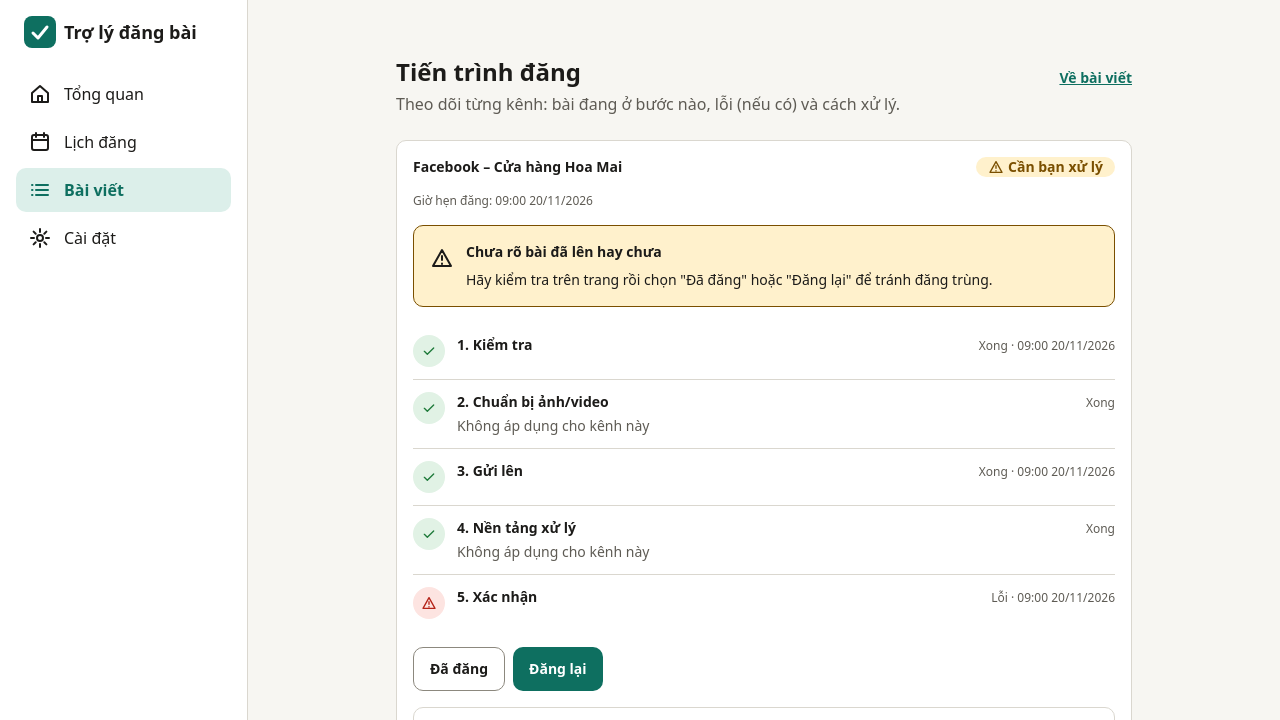
it: Tiến trình đăng › "Cần kiểm tra": có "Đã đăng" + "Đăng lại"; Đăng lại hỏi xác nhận kèm cảnh báo đăng trùng rồi gửi phiên bản
Later steps or results of the test are not shown.
Expected: the text "Chưa rõ bài đã lên hay chưa" is shown, [466,242,662,261]
Expected: the button "Đã đăng" is shown, [413,647,505,691]
Click the button "Đăng lại".
click(558, 669)  # box [513,647,603,691]
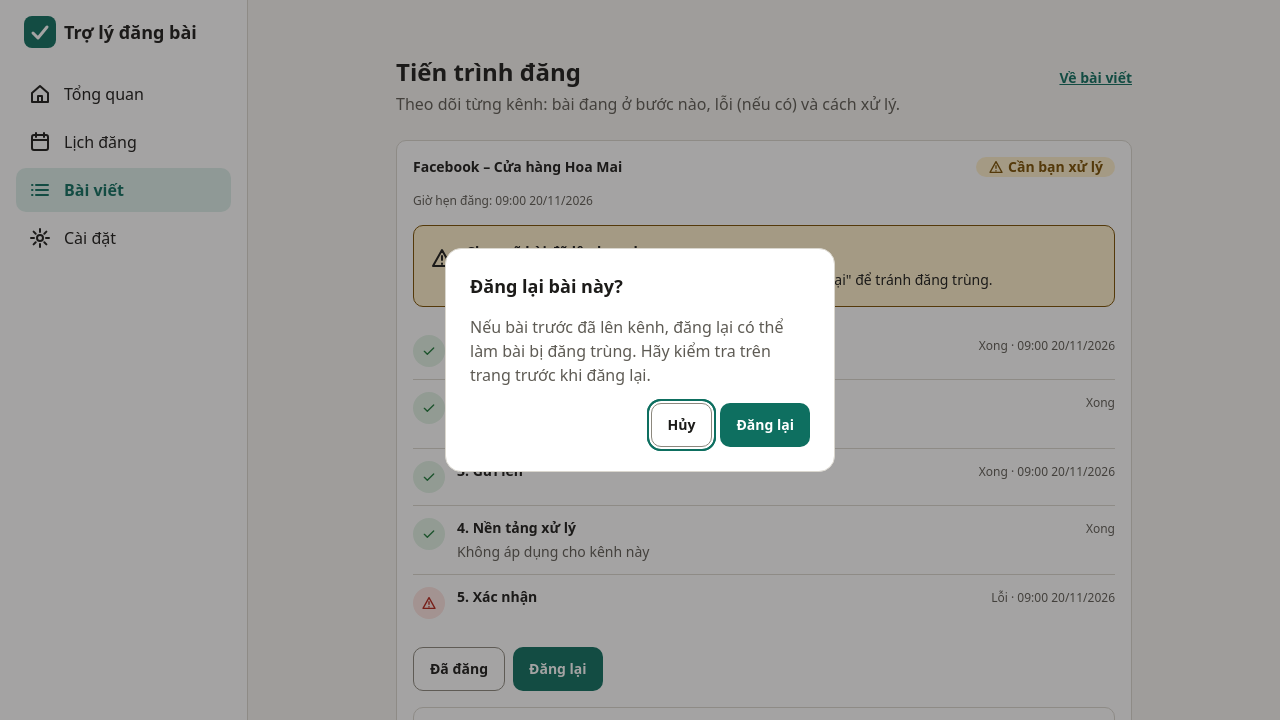
Result: the text "đăng trùng" is shown at [470,316,784,386]
